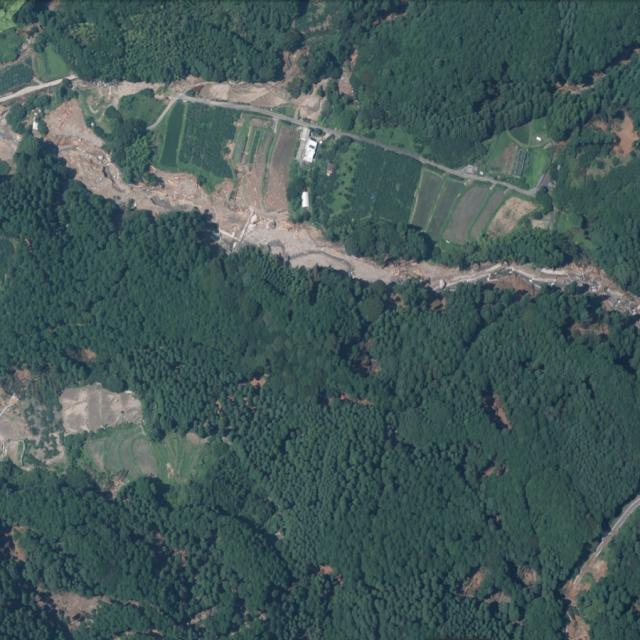landslide: (48, 78, 508, 289), (511, 263, 640, 315)
